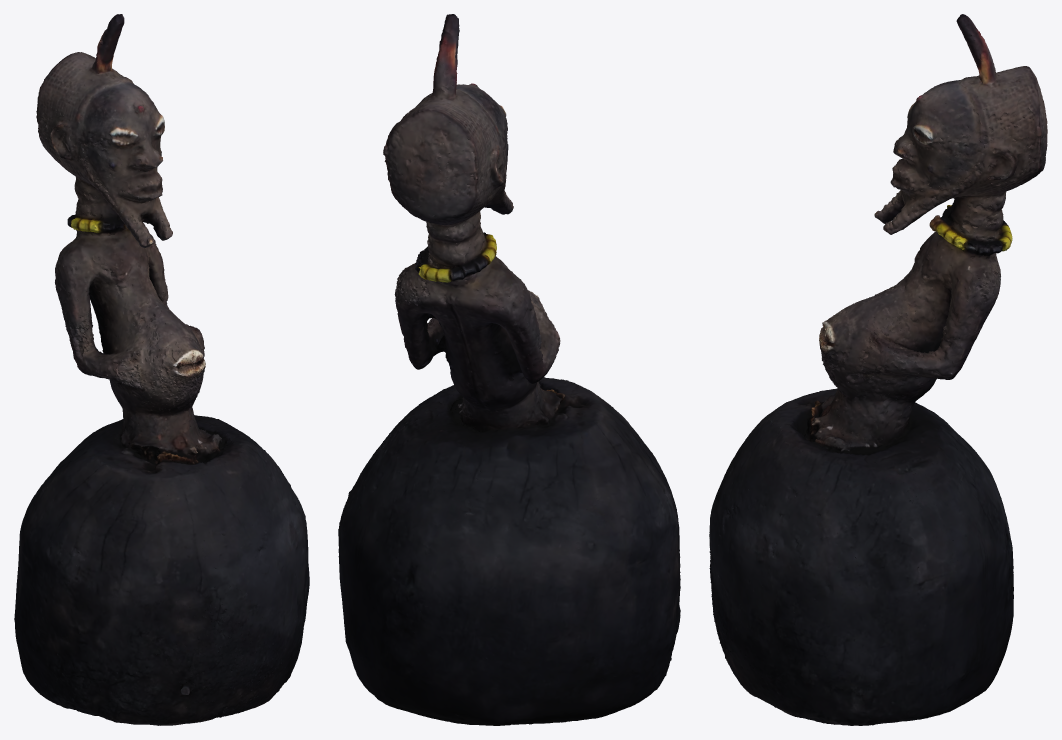
Rendered from preview.glb.
3 renders of one model, left to right at view 1: azimuth 30°, elevation 25°; view 2: azimuth 150°, elevation 25°; view 3: azimuth 270°, elevation 25°, orthographic. The views are drawn at different scales.
Visible parts, largest first — view 1: Object_2; view 2: Object_2; view 3: Object_2.
Part boxes in pixels (bbox=[...]): Object_2: bbox=[14, 14, 309, 725]; Object_2: bbox=[338, 14, 680, 725]; Object_2: bbox=[709, 14, 1047, 725].
Size of the model in its own units: 16.97 by 39.09 by 18.12.
Materials: 1 (1 with a texture image).
